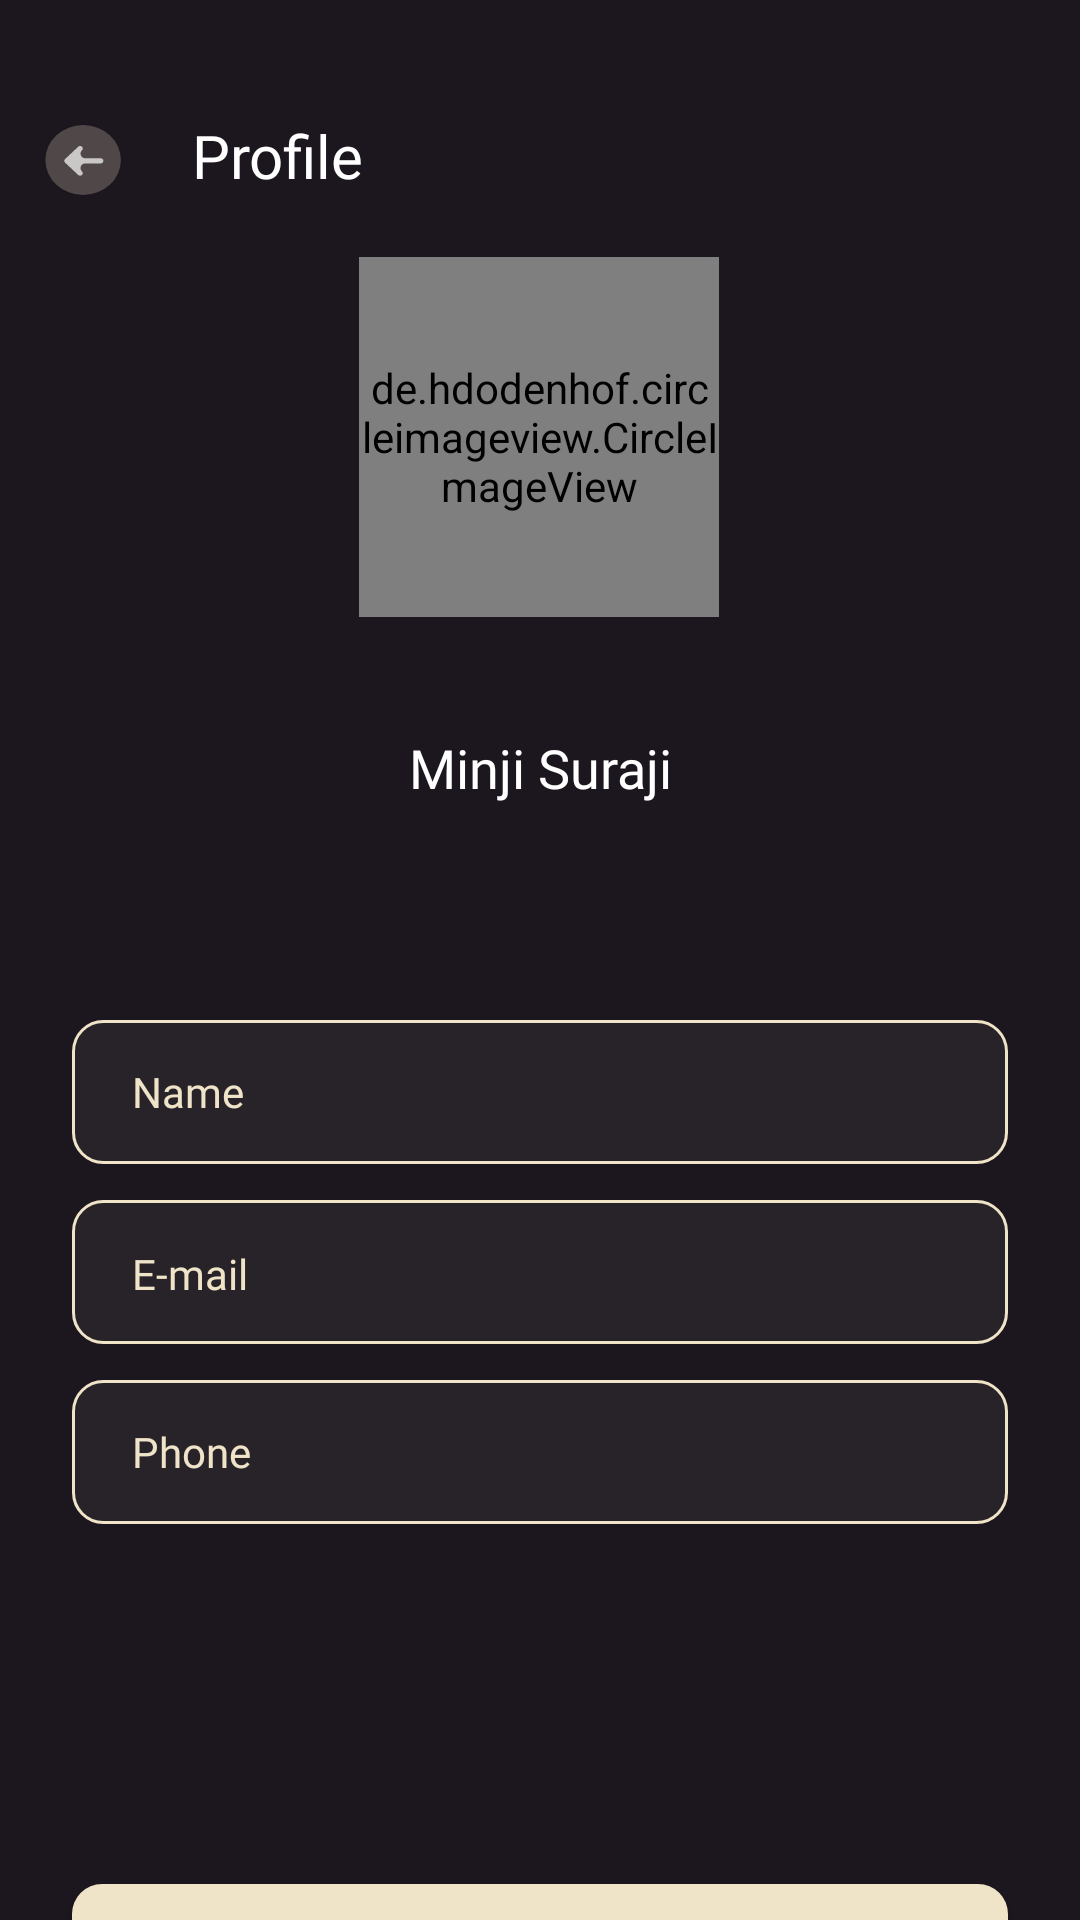

Screen size 1080×1920. Icon name, then its box in pixels as bbox(x1, y1, x2, y2):
back: bbox(45, 125, 121, 195)
